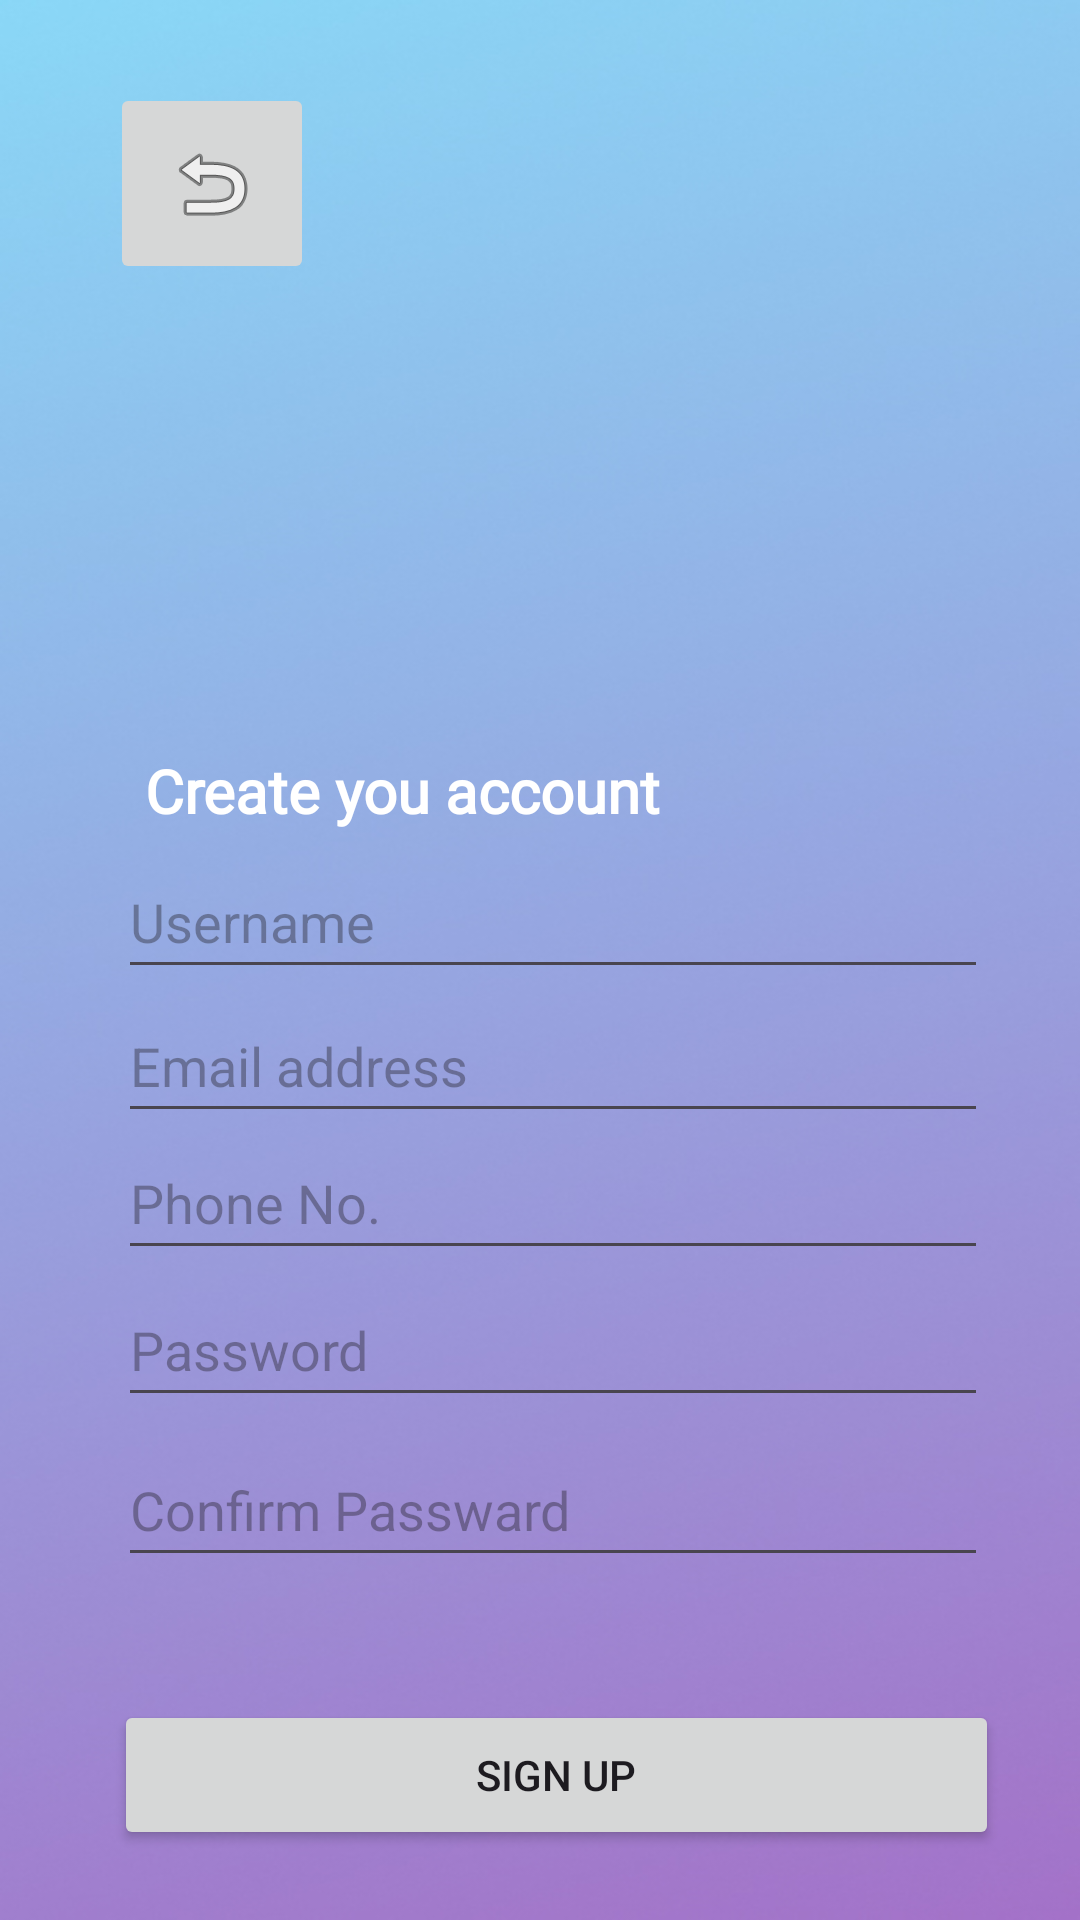

Where icons sit on this 1080×1920 app screen, as {"x1": x1, "y1": y1, "x2": x2, "y2": y2}:
revert: {"x1": 122, "y1": 101, "x2": 302, "y2": 266}
